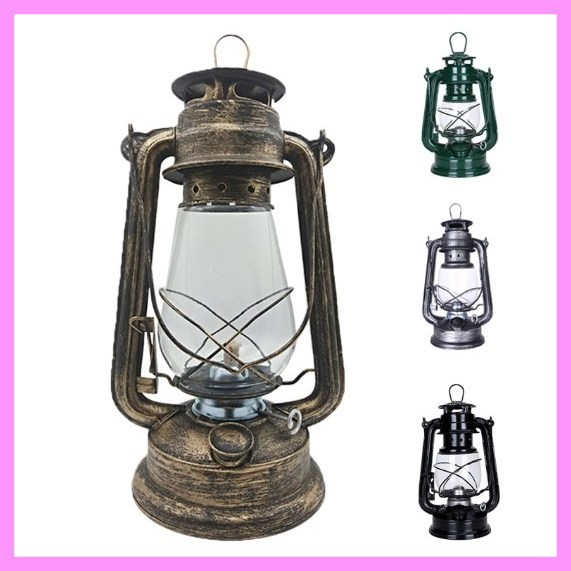Open-Flame-Hazard: (93, 31, 355, 551), (405, 22, 513, 188), (405, 381, 513, 547), (409, 200, 506, 359)
